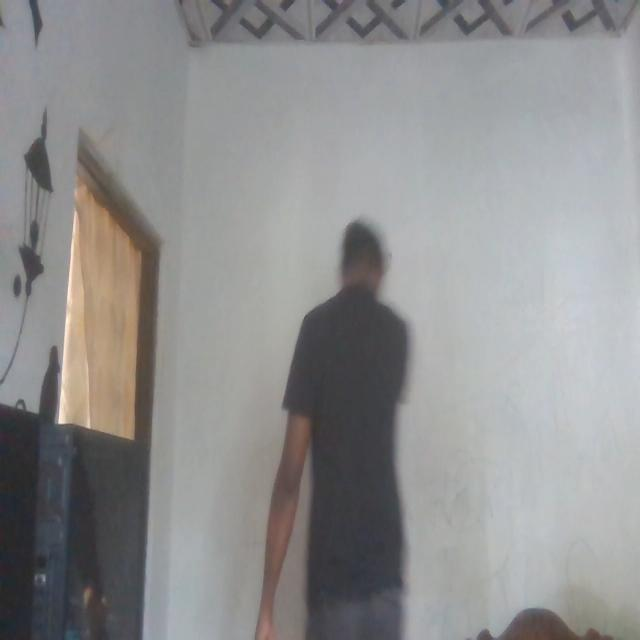Person: (276, 207, 432, 640)
